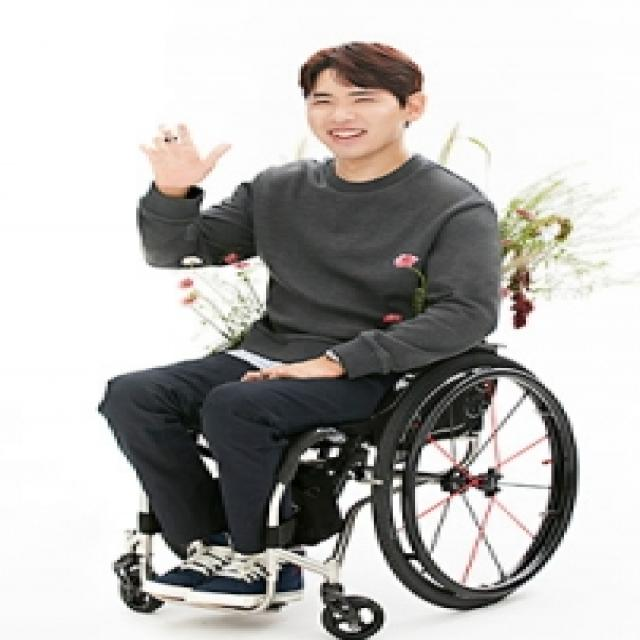wheelchair: (103, 38, 583, 638)
